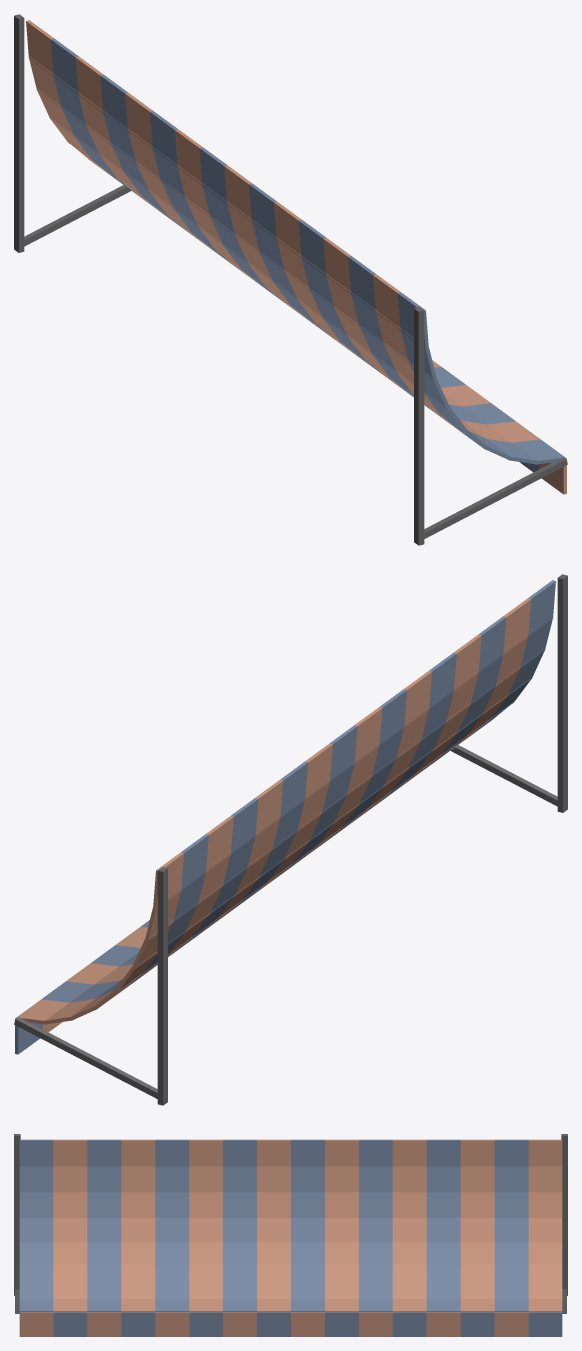
File: dm_awningwide.glb
3 views of the same model, one above another, from view 1: azimuth 30°, elevation 25°; view 2: azimuth 150°, elevation 25°; view 3: azimuth 270°, elevation 25° (orthographic). The views are drawn at different scales.
Visible parts, largest first — view 1: dm_awningwide; view 2: dm_awningwide; view 3: dm_awningwide.
Part boxes in pixels (<box>): dm_awningwide: <box>14,14,567,545</box>; dm_awningwide: <box>14,574,567,1105</box>; dm_awningwide: <box>14,1134,567,1336</box>.
Size of the model in its own units: 0.546 by 0.8 by 2.51.
